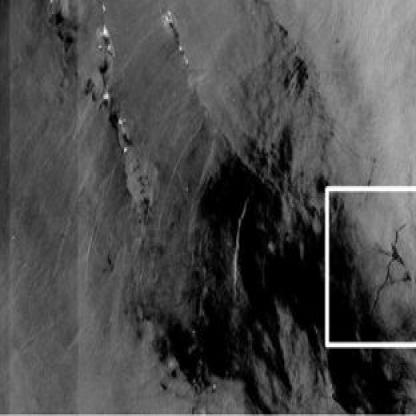oil: (349, 174, 415, 338)
